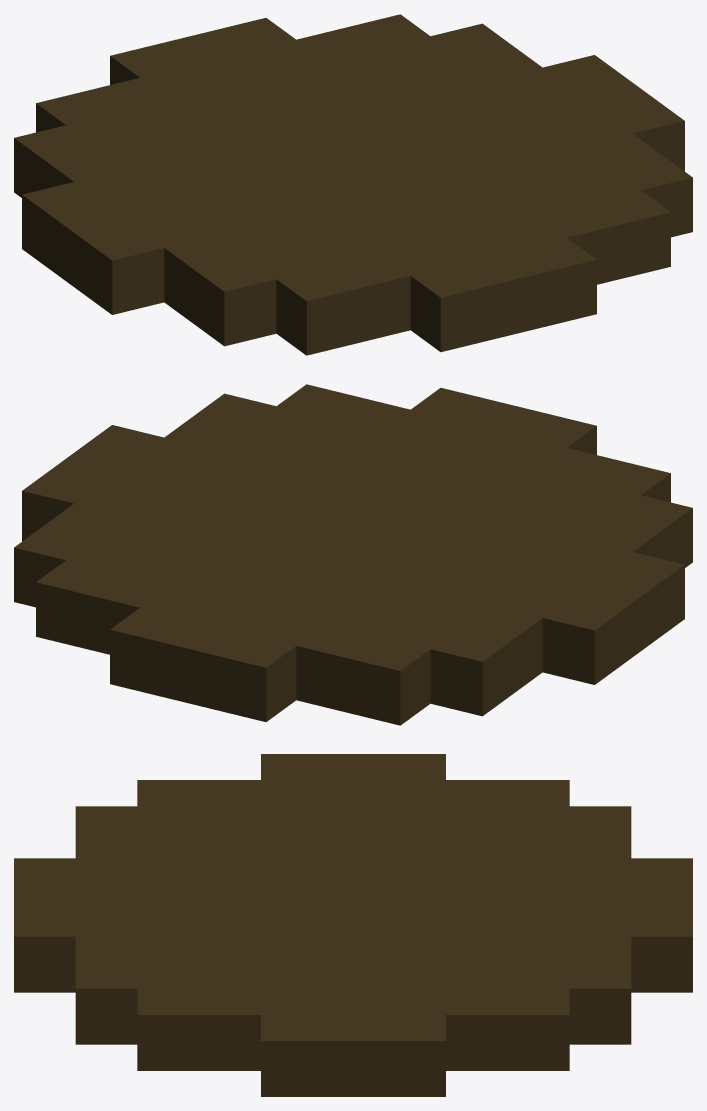
Rendered from Table-top2.obj.
3 views of the same model, one above another, from view 1: azimuth 30°, elevation 25°; view 2: azimuth 150°, elevation 25°; view 3: azimuth 270°, elevation 25° (orthographic). The views are drawn at different scales.
Bounding box in the file's own units: 1.1 × 0.1 × 1.1.
Materials: 1 (1 with a texture image).
